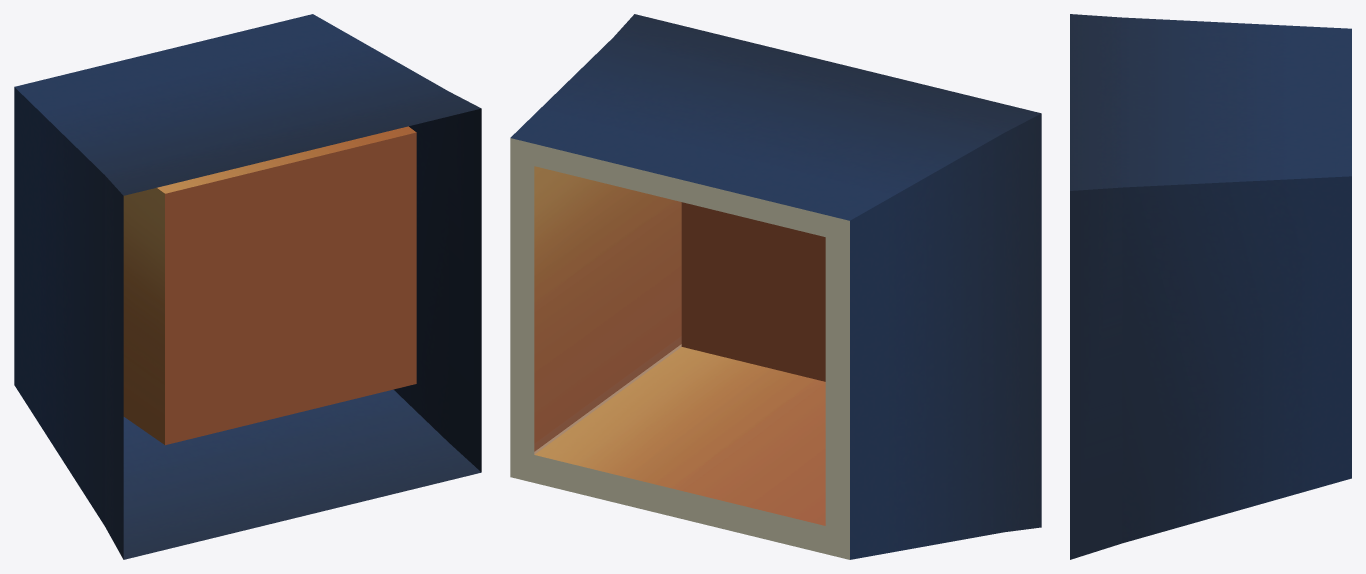
The model's file is endgoal_05.fbx.
3 views of the same model, side by side, from view 1: azimuth 30°, elevation 25°; view 2: azimuth 150°, elevation 25°; view 3: azimuth 270°, elevation 25° (orthographic). The views are drawn at different scales.
Parts seen in each view (by area): view 1: pCube17; view 2: pCube17; view 3: pCube17.
Part boxes in pixels (x1=…): pCube17: x1=14, y1=14, x2=481, y2=559; pCube17: x1=510, y1=14, x2=1041, y2=559; pCube17: x1=1070, y1=14, x2=1351, y2=559.
Size of the model in its own units: 262 by 255 by 176.
